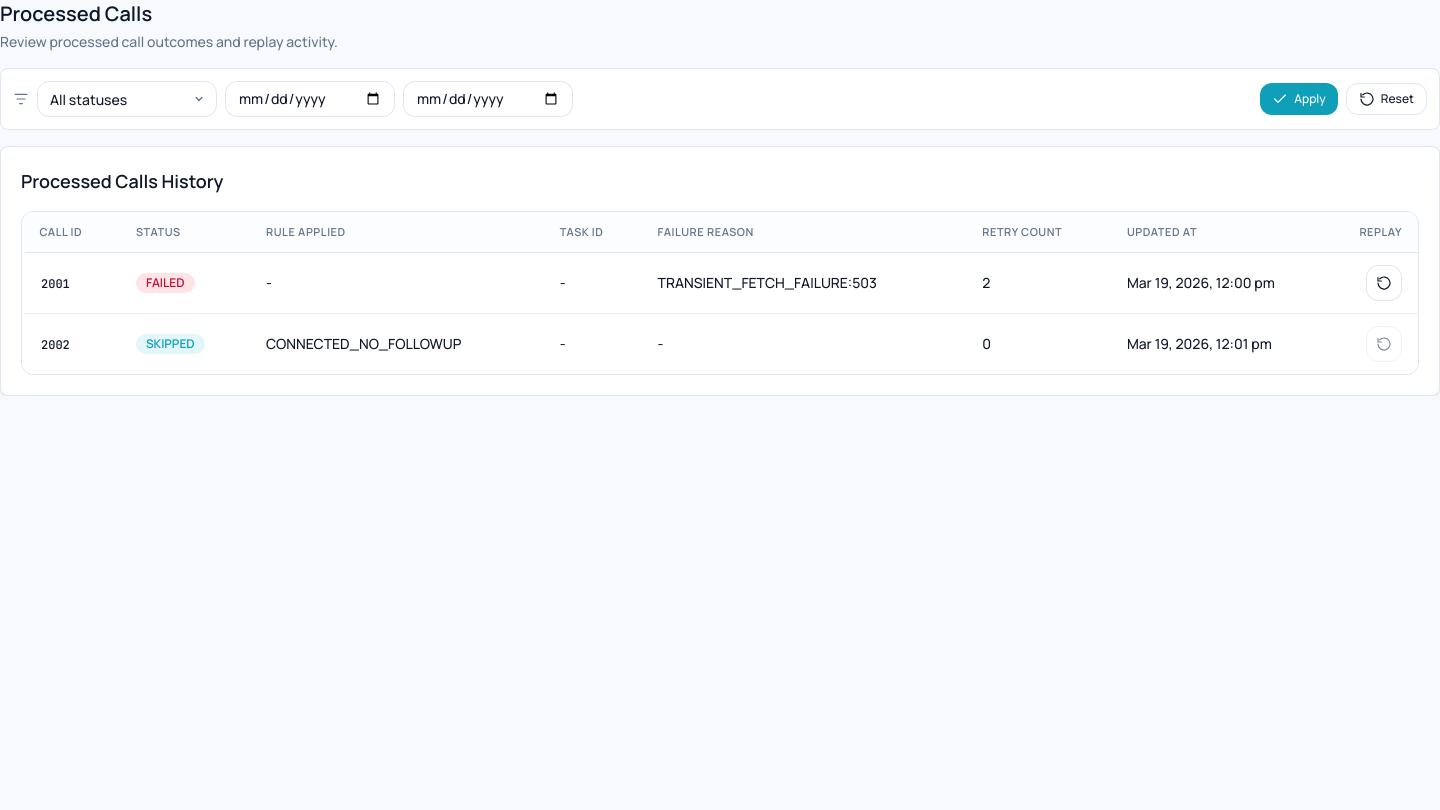
Test: Processed Calls page Step 4 › shows success feedback and refetches list on replay 202 response
Check: the text "2001" is shown, box left=41, top=276, right=70, bottom=292
What coordinates should you click on to do the following:
click the button with test id "processed-calls-replay-2001"
I would click on:
 (1384, 283)
Its box is left=1366, top=265, right=1402, bottom=301.
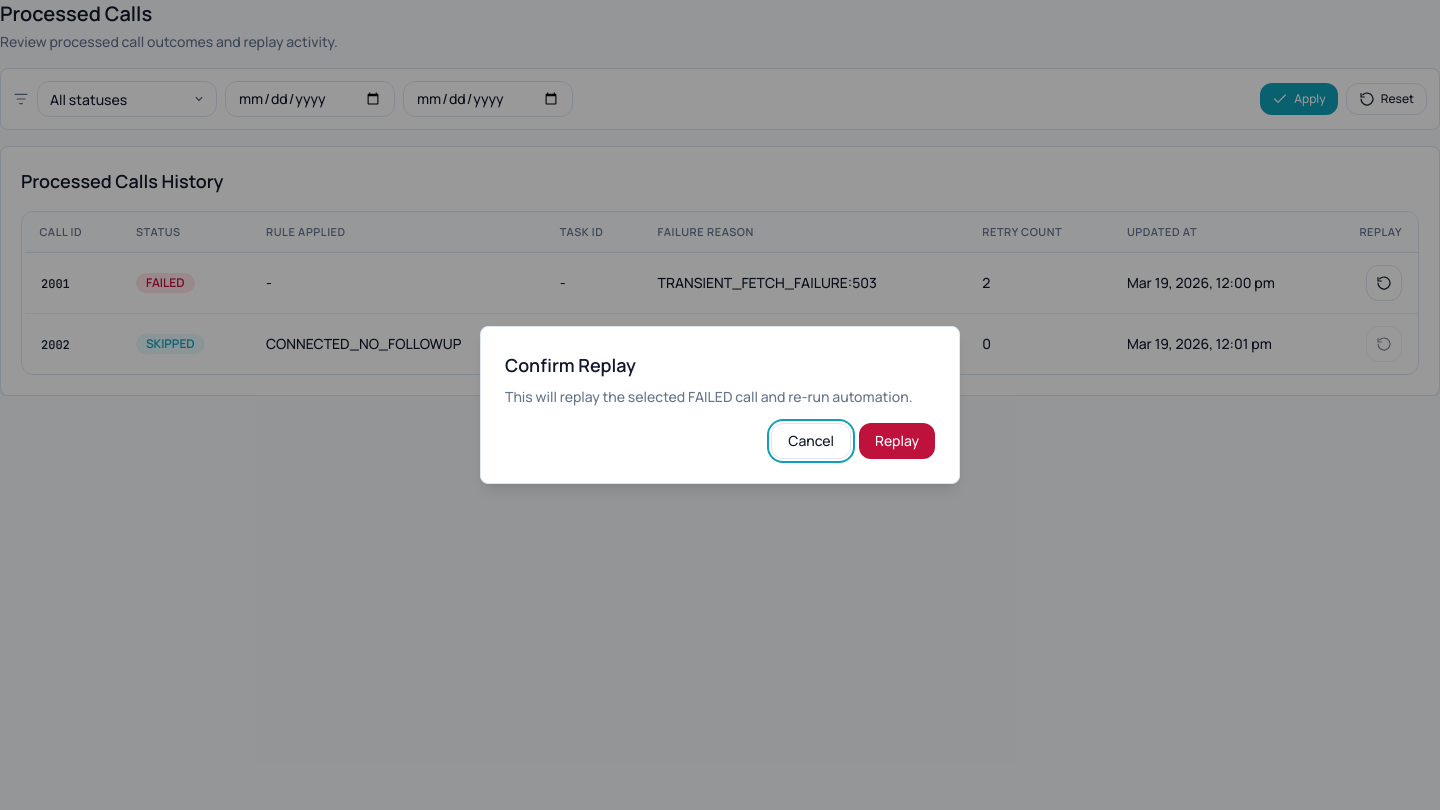
What coordinates should you click on to do the following:
click the button "Replay"
I would click on:
 (897, 441)
Its box is left=859, top=423, right=935, bottom=459.
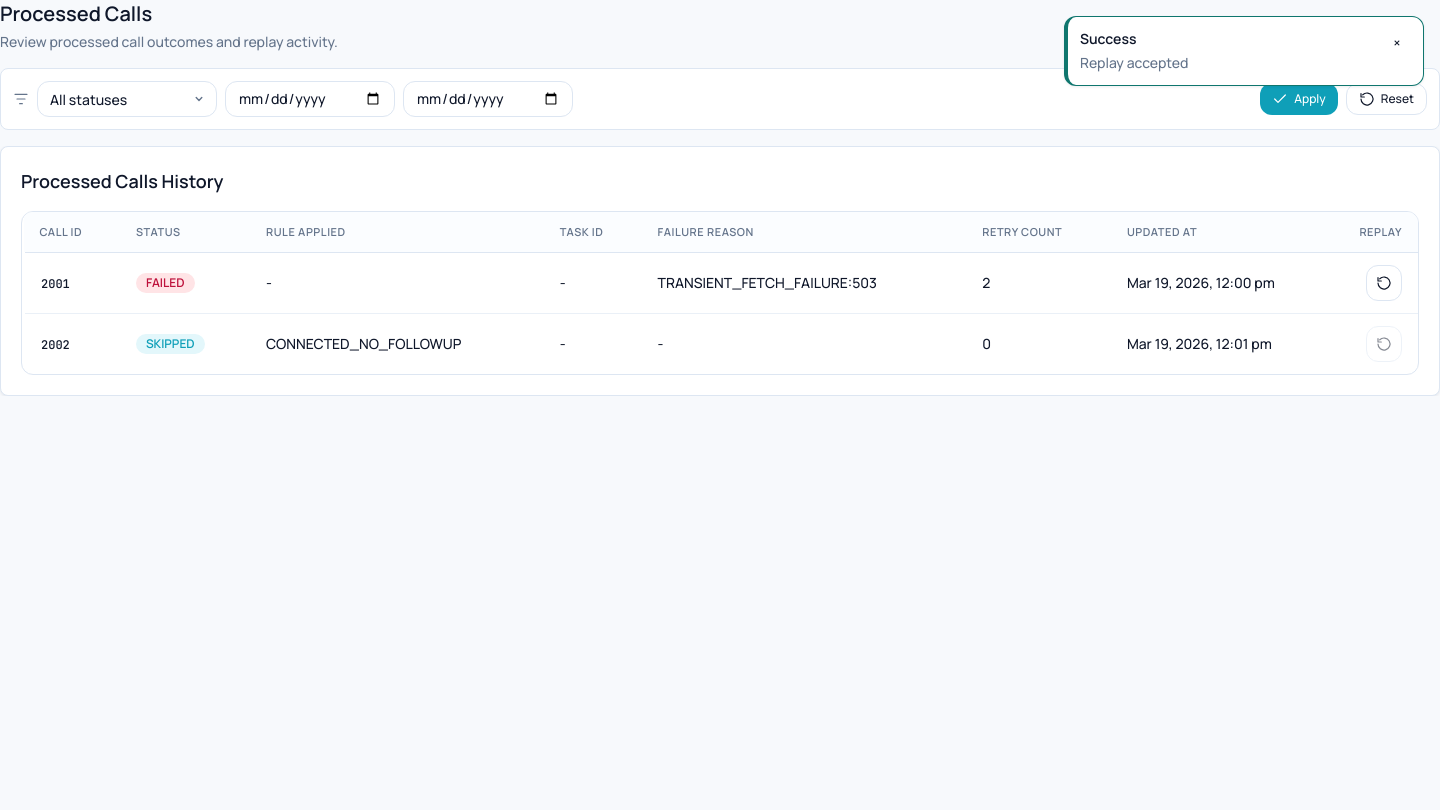
Check: the text "Replay accepted" is shown, box left=1080, top=53, right=1188, bottom=73
